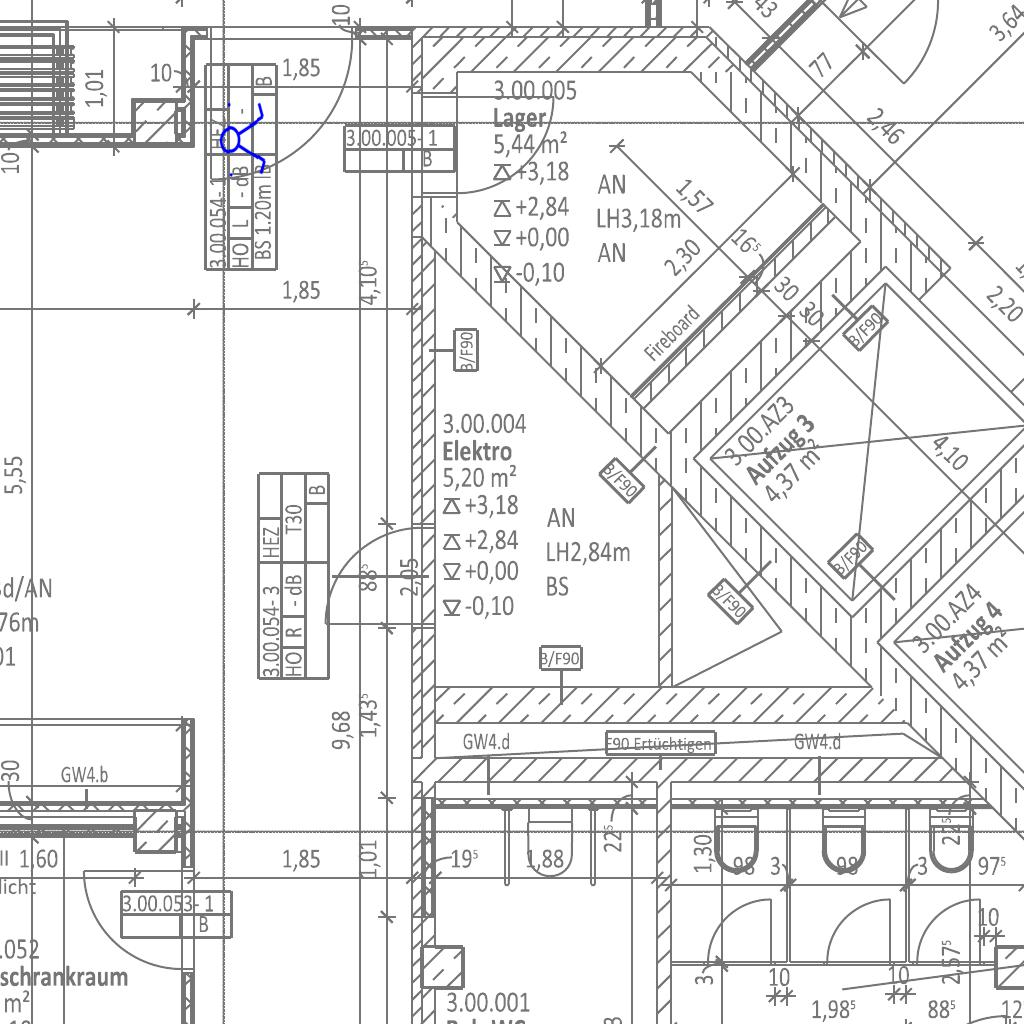Serienschalter: (217, 96, 269, 182)
